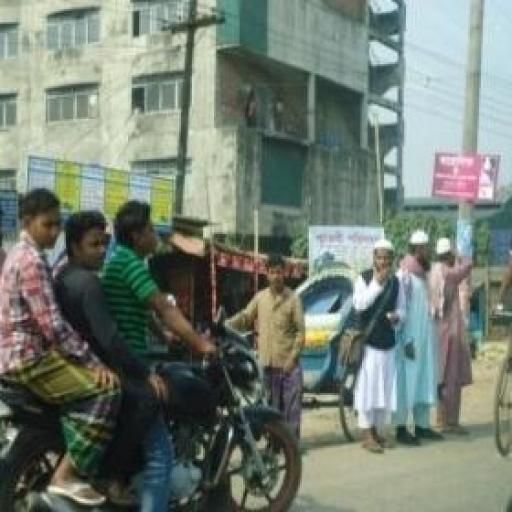overloading: (0, 307, 305, 510)
